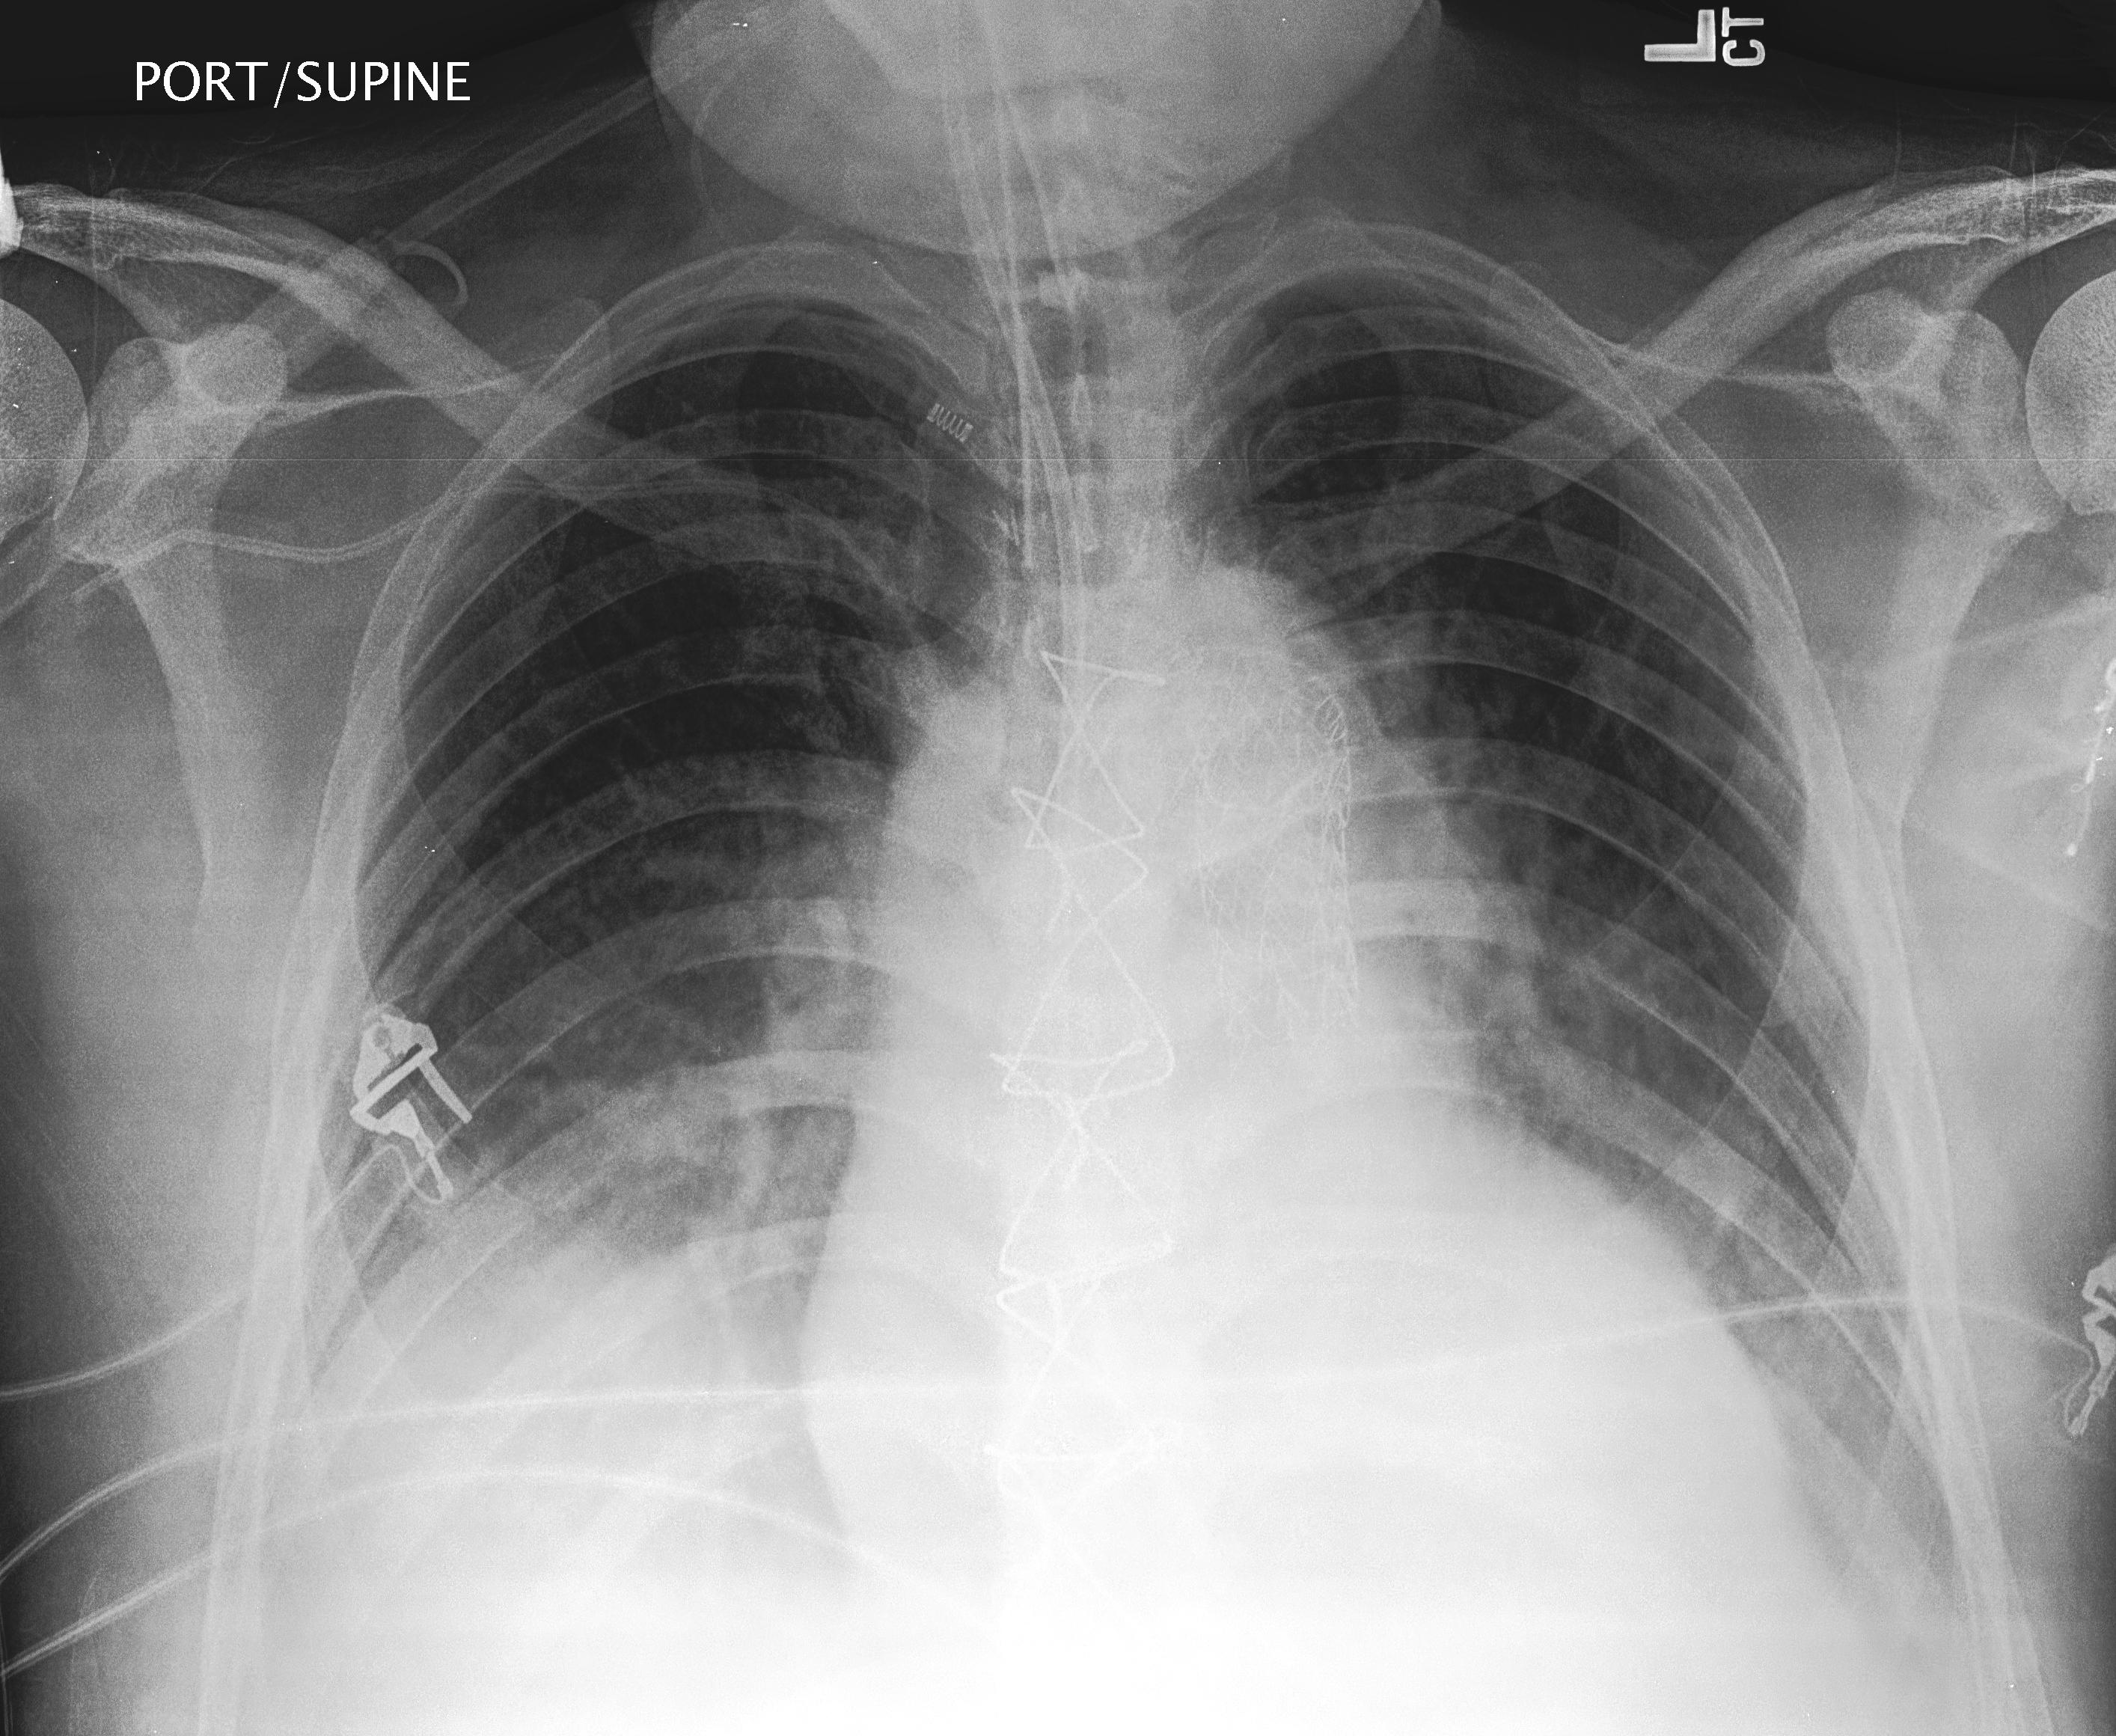Pleural Effusion: (204, 1225, 689, 1581)
